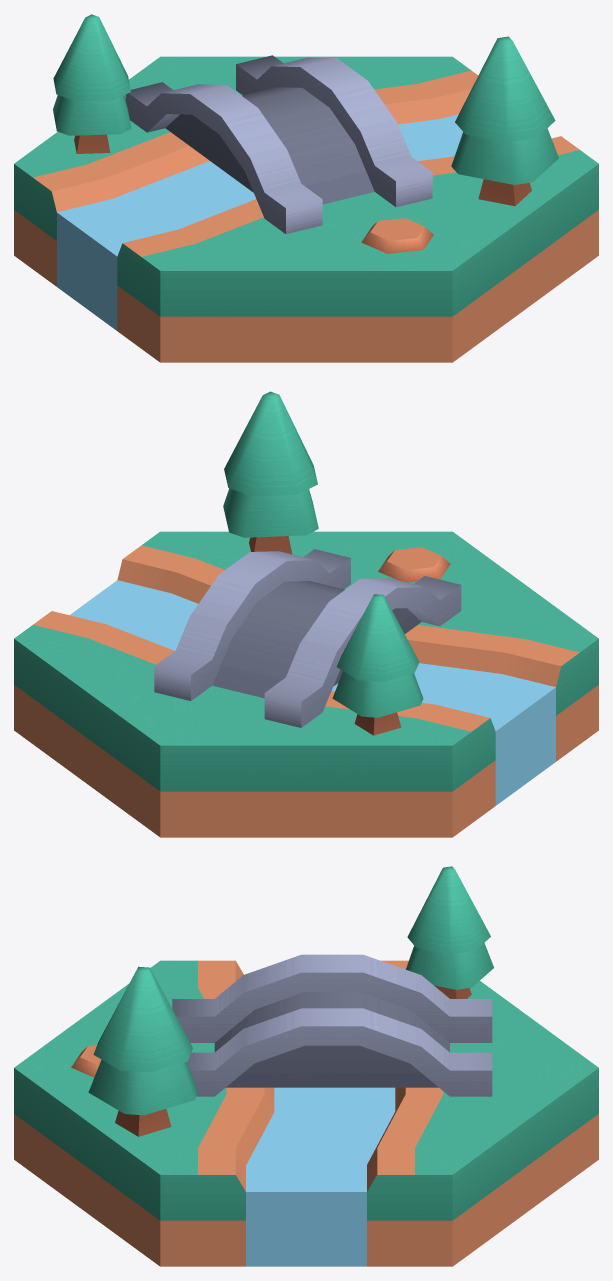
Rendered from bridge.glb.
The picture shows the model from 3 angles, top to bottom: view 1: azimuth 30°, elevation 25°; view 2: azimuth 150°, elevation 25°; view 3: azimuth 270°, elevation 25°; orthographic projection.
Visible parts, largest first — view 1: bridge; view 2: bridge; view 3: bridge.
Boxes of the visible parts, x1,y1,x2,y2 form: bridge: (14,14,598,362); bridge: (14,391,598,837); bridge: (14,866,598,1266).
Bounding box in the file's own units: 10 × 5.38 × 11.55.
1 material, 1 textured.
